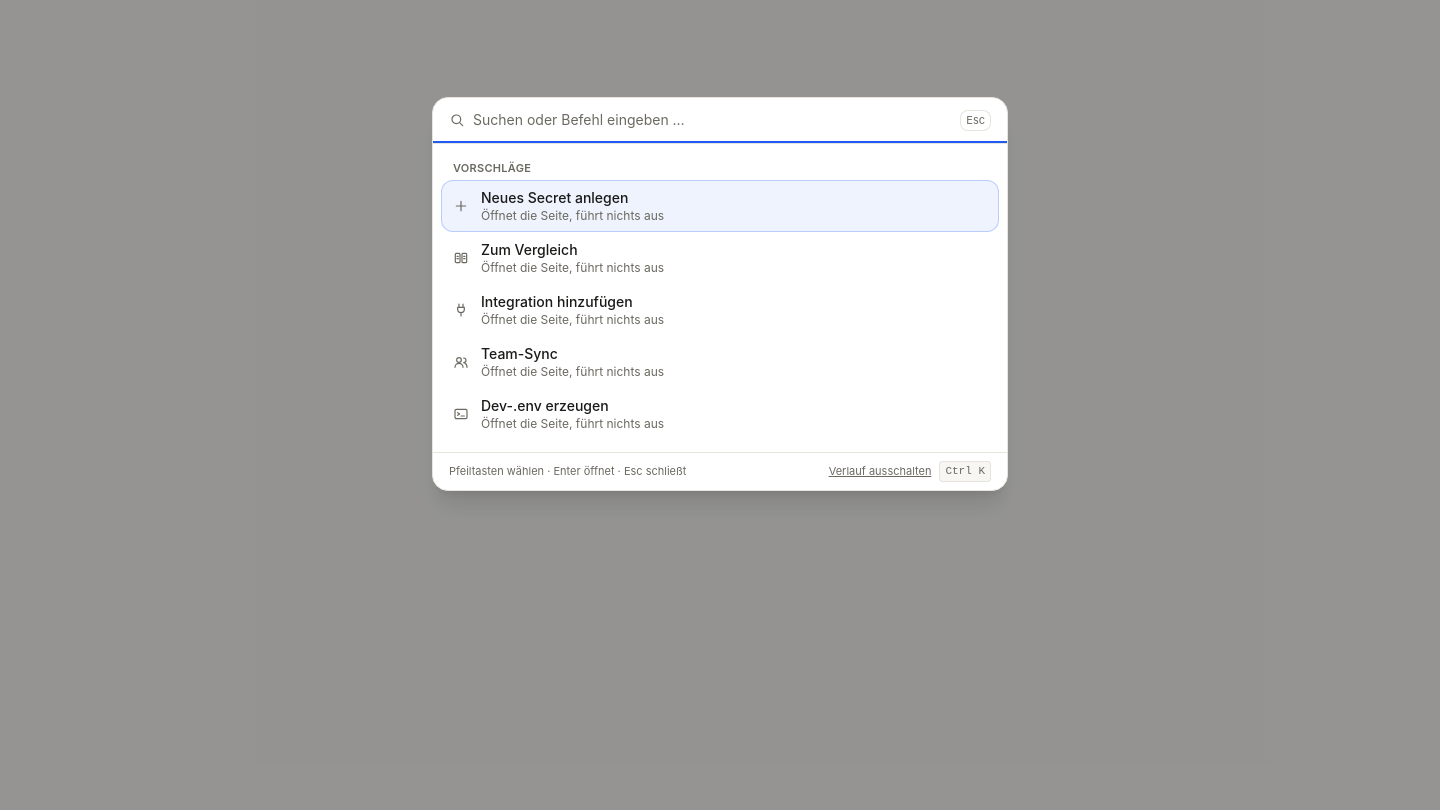
it: CommandPalette search › offers a did-you-mean correction when nothing matches
Type "tokxxn" into the dropdown labelled "Suchen oder Befehl eingeben …". click: (713, 120)
box: top-left (473, 110), bottom-right (952, 130)
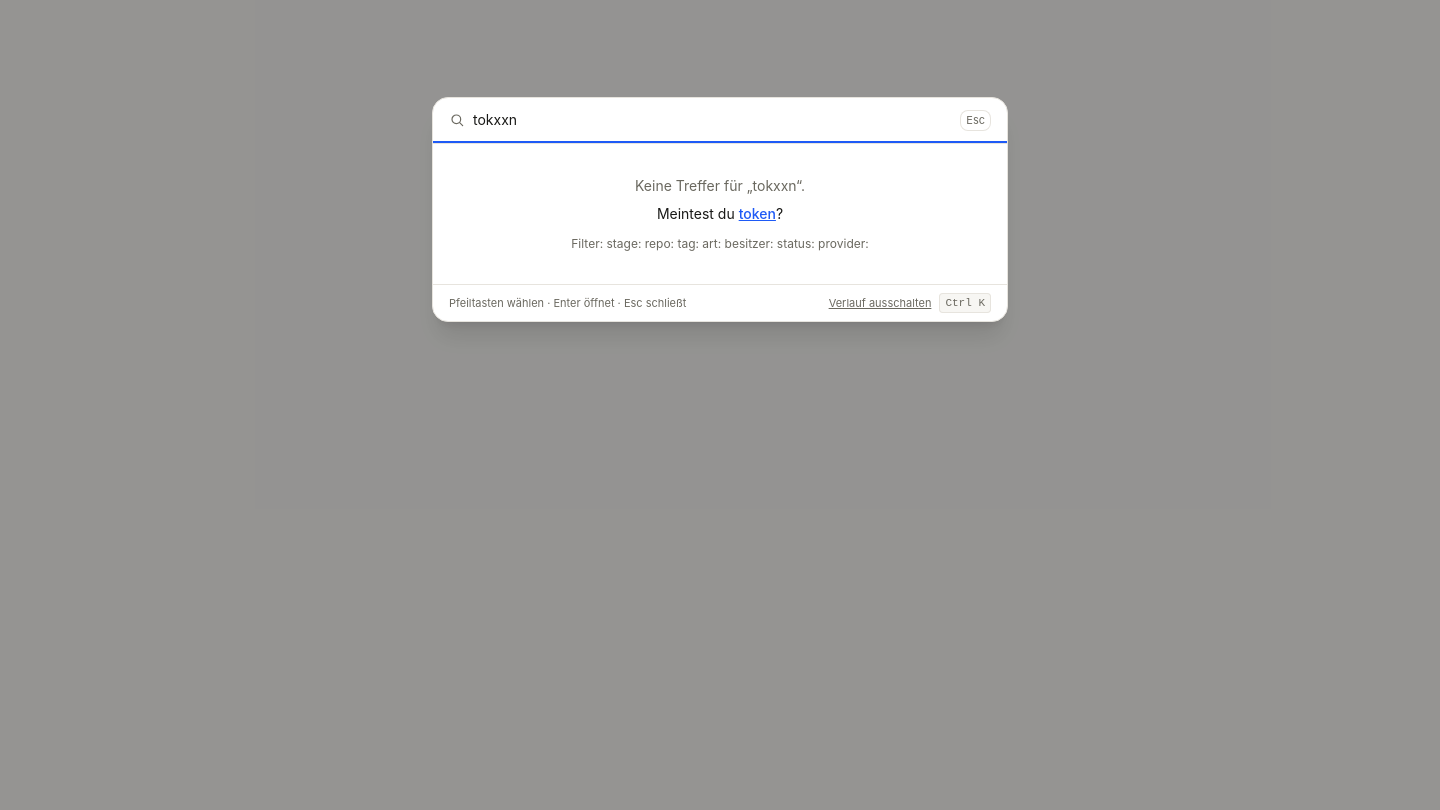
Expected: the text "Keine Treffer für „tokxxn“." is shown, top-left (635, 177), bottom-right (805, 194)
Expected: the text "Filter: stage: repo: tag: art: besitzer: status: provider:" is shown, top-left (571, 236), bottom-right (869, 251)
Click the button "token". click: (757, 214)
box: top-left (739, 204), bottom-right (776, 224)
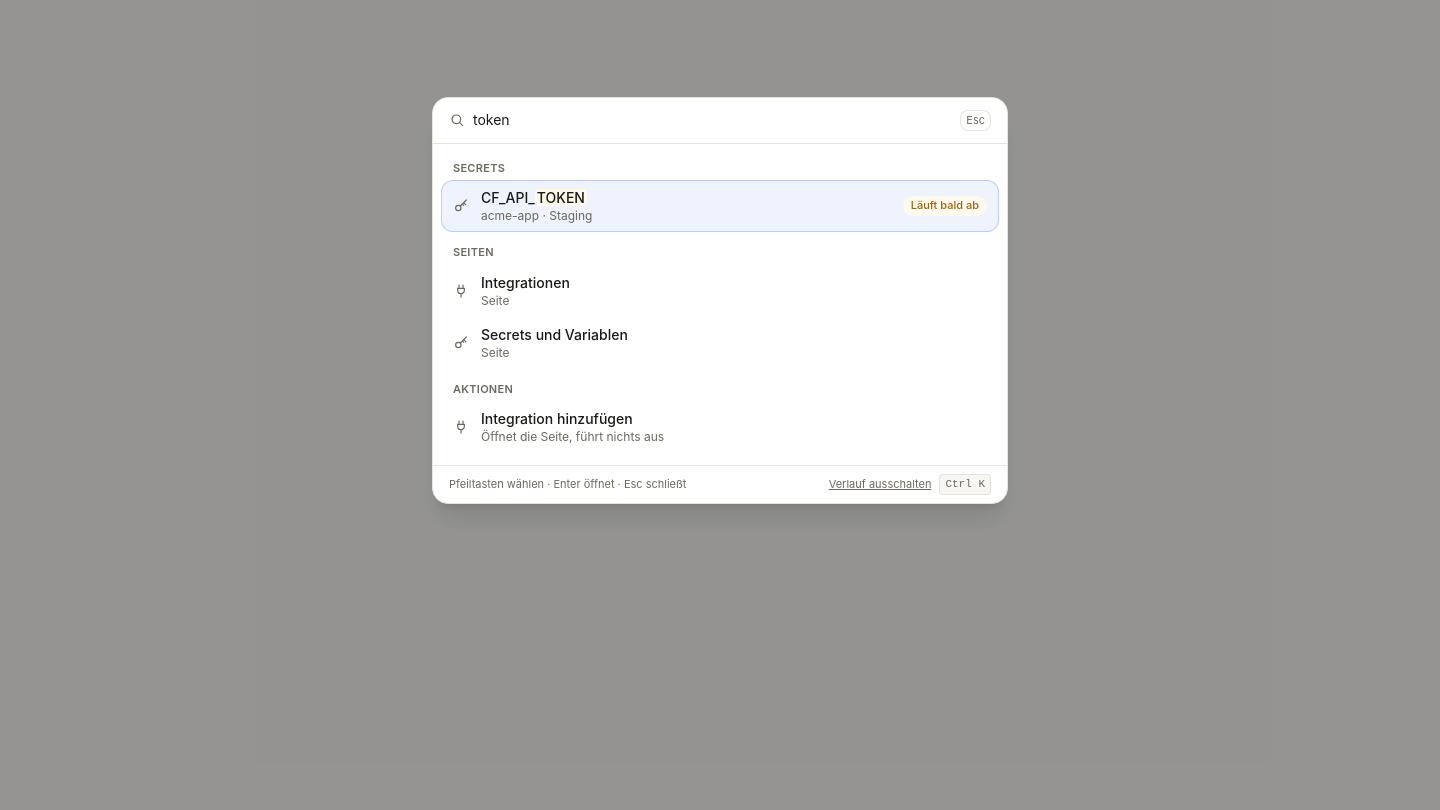
Expected: the dropdown named "Suchen oder Befehl eingeben …" holds "token", top-left (473, 110), bottom-right (952, 130)
Expected: the element "Secrets" is shown, top-left (441, 152), bottom-right (999, 232)
